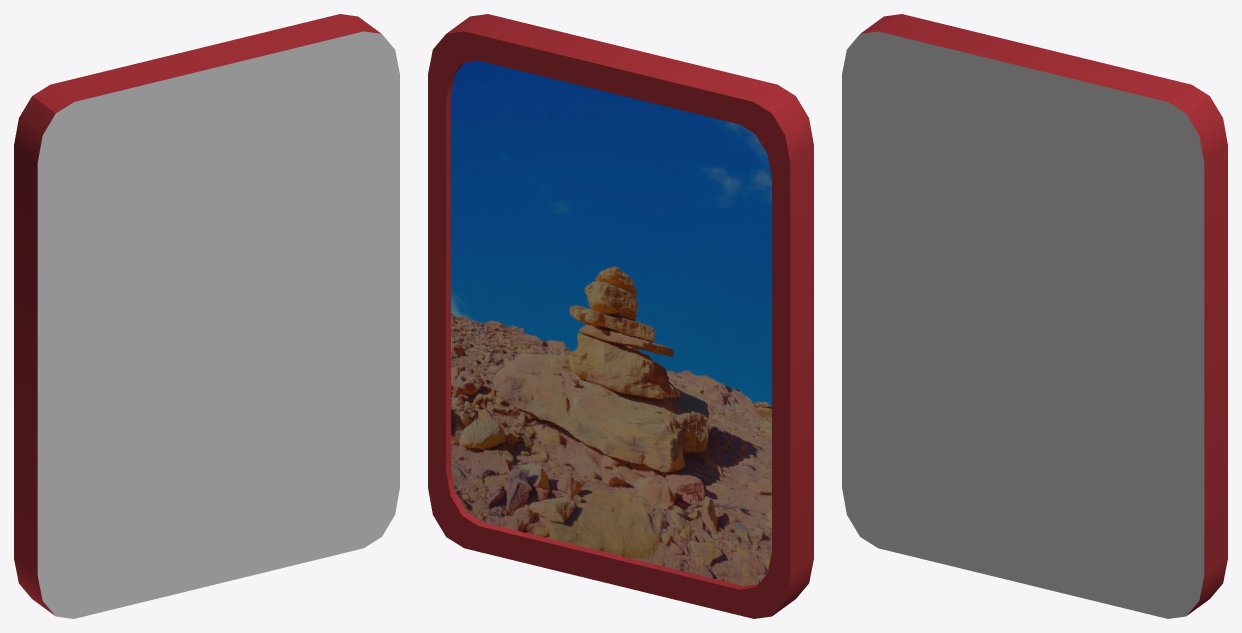
Rendered from target04.fbx.
The picture shows the model from 3 angles, left to right: view 1: azimuth 30°, elevation 25°; view 2: azimuth 150°, elevation 25°; view 3: azimuth 330°, elevation 25°; orthographic projection.
Parts seen in each view (by area): view 1: Target; view 2: Target; view 3: Target.
Boxes of the visible parts, box(x1,y1,x2,y2) form: Target: box(14, 14, 399, 618); Target: box(428, 14, 813, 618); Target: box(842, 14, 1227, 618).
Bounding box in the file's own units: 55 × 75 × 6.25.
